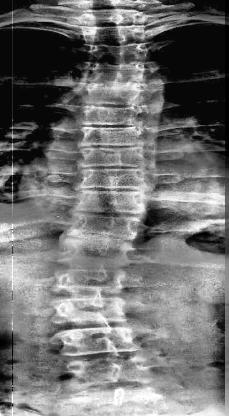Vertebrae: (64, 357, 154, 387), (66, 213, 143, 245), (57, 237, 132, 269), (56, 328, 140, 356), (51, 295, 129, 325), (70, 387, 152, 415), (74, 192, 150, 219), (54, 267, 122, 297), (80, 165, 146, 195), (78, 124, 148, 150), (80, 102, 146, 128), (79, 146, 147, 170), (85, 80, 145, 106), (86, 41, 152, 63), (78, 8, 146, 28), (80, 25, 148, 45), (87, 60, 148, 82)
